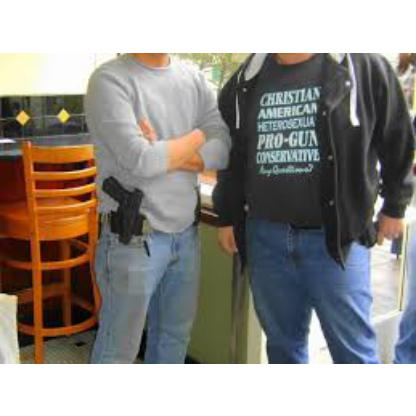gun: (94, 176, 146, 242)
